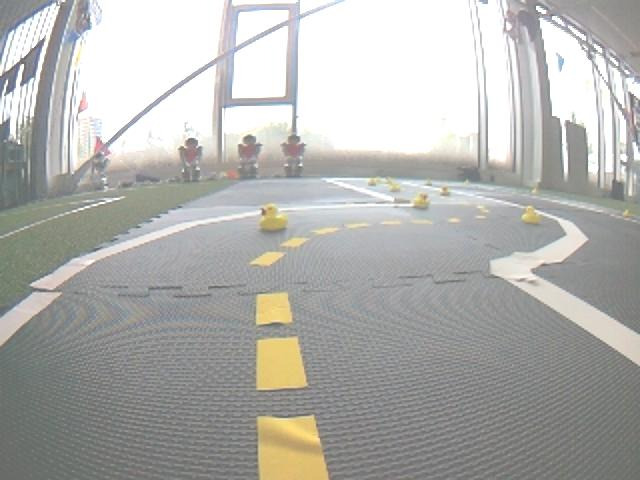Duckies: (256, 204, 290, 231), (521, 205, 542, 223), (413, 192, 431, 208), (390, 183, 401, 192), (439, 187, 451, 195), (621, 209, 631, 216), (367, 179, 376, 186), (386, 178, 393, 184), (532, 187, 538, 193), (425, 180, 432, 185), (464, 179, 471, 184)
